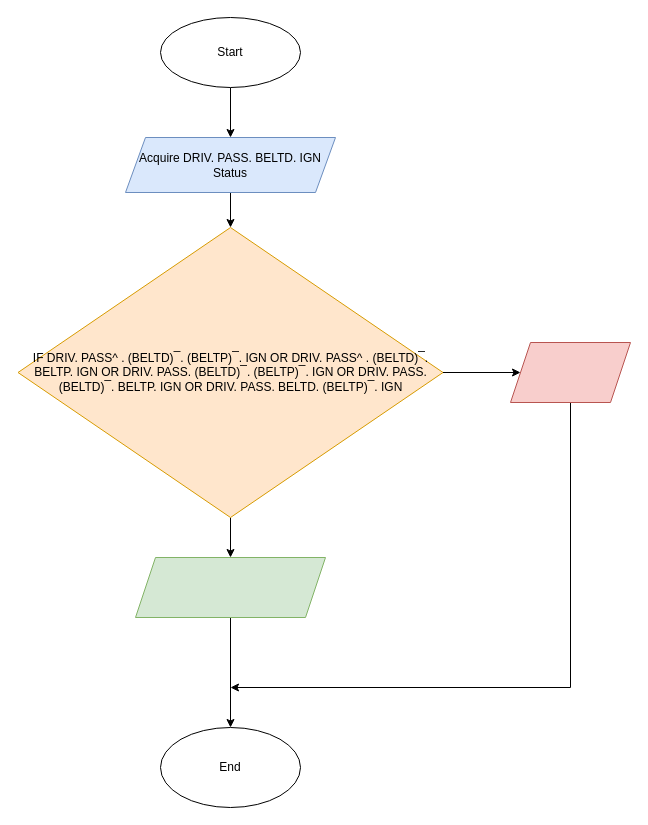
Image size: 648x825. Some labels were removed from this diagram. Each missing label, with the box of its shape:
Alarm OFF: (510, 342, 630, 402)
Alarm ON: (134, 556, 326, 618)
